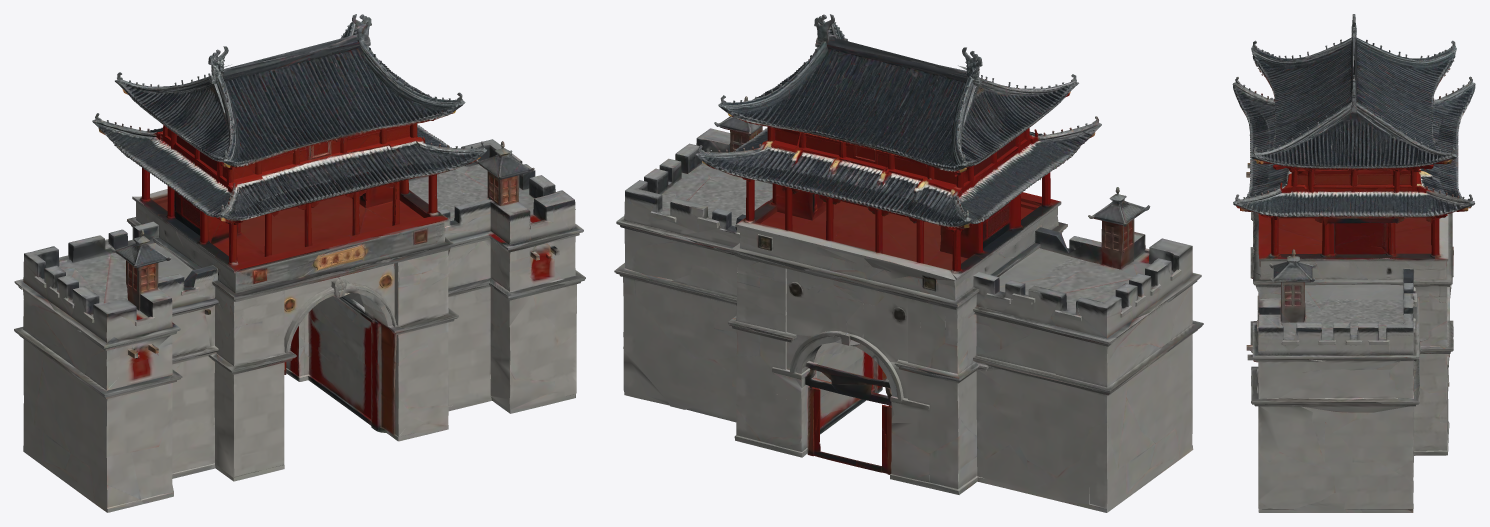
Rendered from city_gate.hd.glb.
3 views of the same model, side by side, from view 1: azimuth 30°, elevation 25°; view 2: azimuth 150°, elevation 25°; view 3: azimuth 270°, elevation 25° (orthographic). The views are drawn at different scales.
Bounding box in the file's own units: 1.89 × 1.46 × 0.8904.
1 material, 1 textured.
